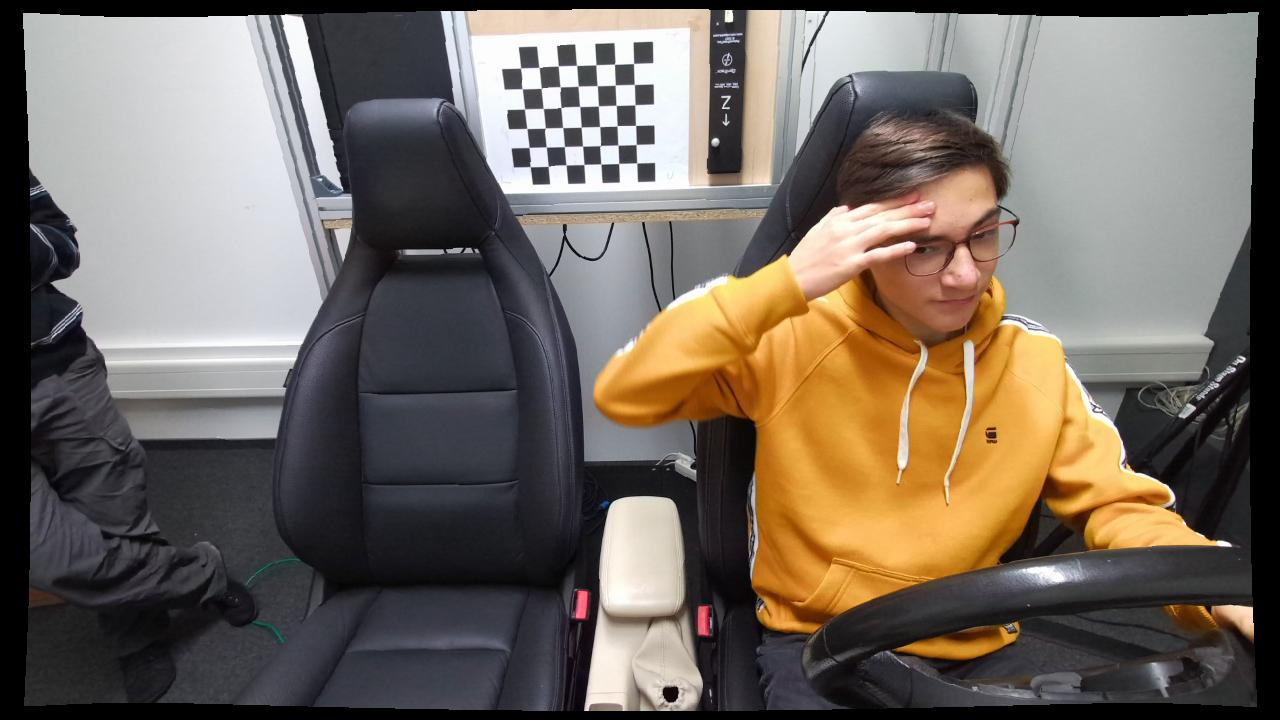Distracted: (595, 96, 1083, 714)
